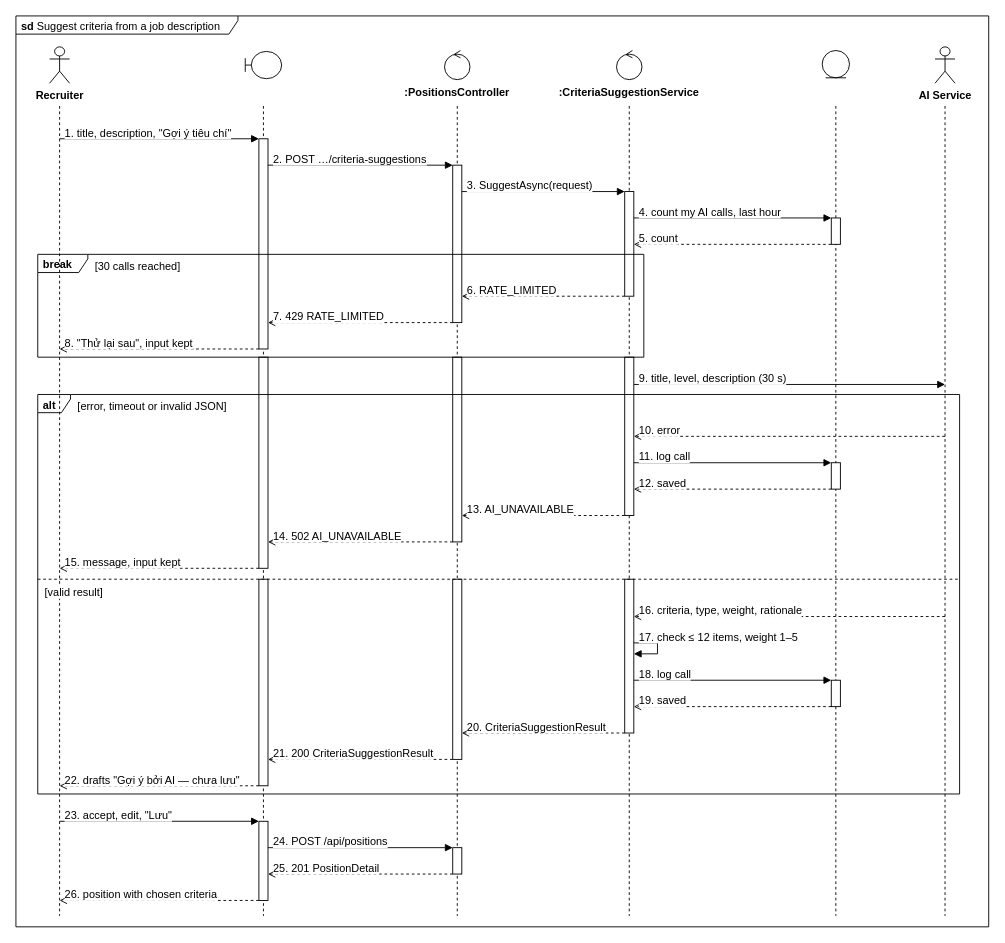
This 1005x943 diagram has some shape labels left out. The shapes that lost their labels are listed below. From the top down, each one's centre as x and y in pixels, then its label:
(263,65): :Position form
(835,64): :Database
